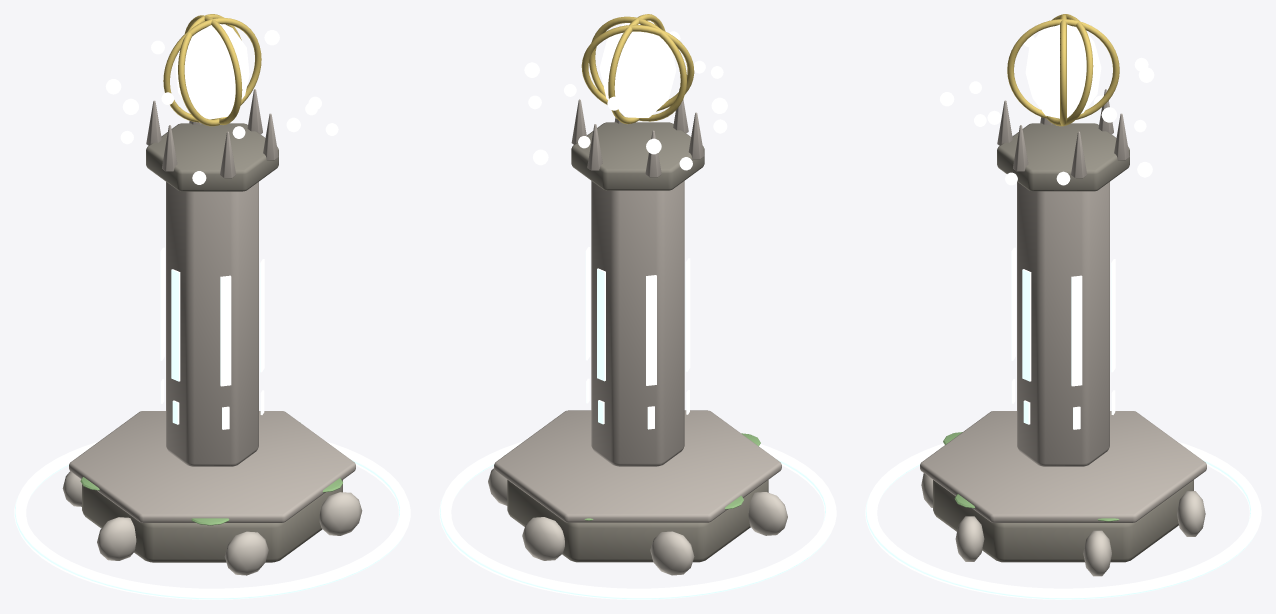
The model's file is waypoint_pillar.glb.
3 views of the same model, side by side, from view 1: azimuth 30°, elevation 25°; view 2: azimuth 150°, elevation 25°; view 3: azimuth 270°, elevation 25° (orthographic).
Visible parts, largest first — view 1: waypoint_pillar; view 2: waypoint_pillar; view 3: waypoint_pillar.
Part boxes in pixels (<box>): waypoint_pillar: <box>14,14,410,599</box>; waypoint_pillar: <box>439,14,836,599</box>; waypoint_pillar: <box>865,14,1261,599</box>.
Bounding box in the file's own units: 1.65 × 2.3 × 1.65.
